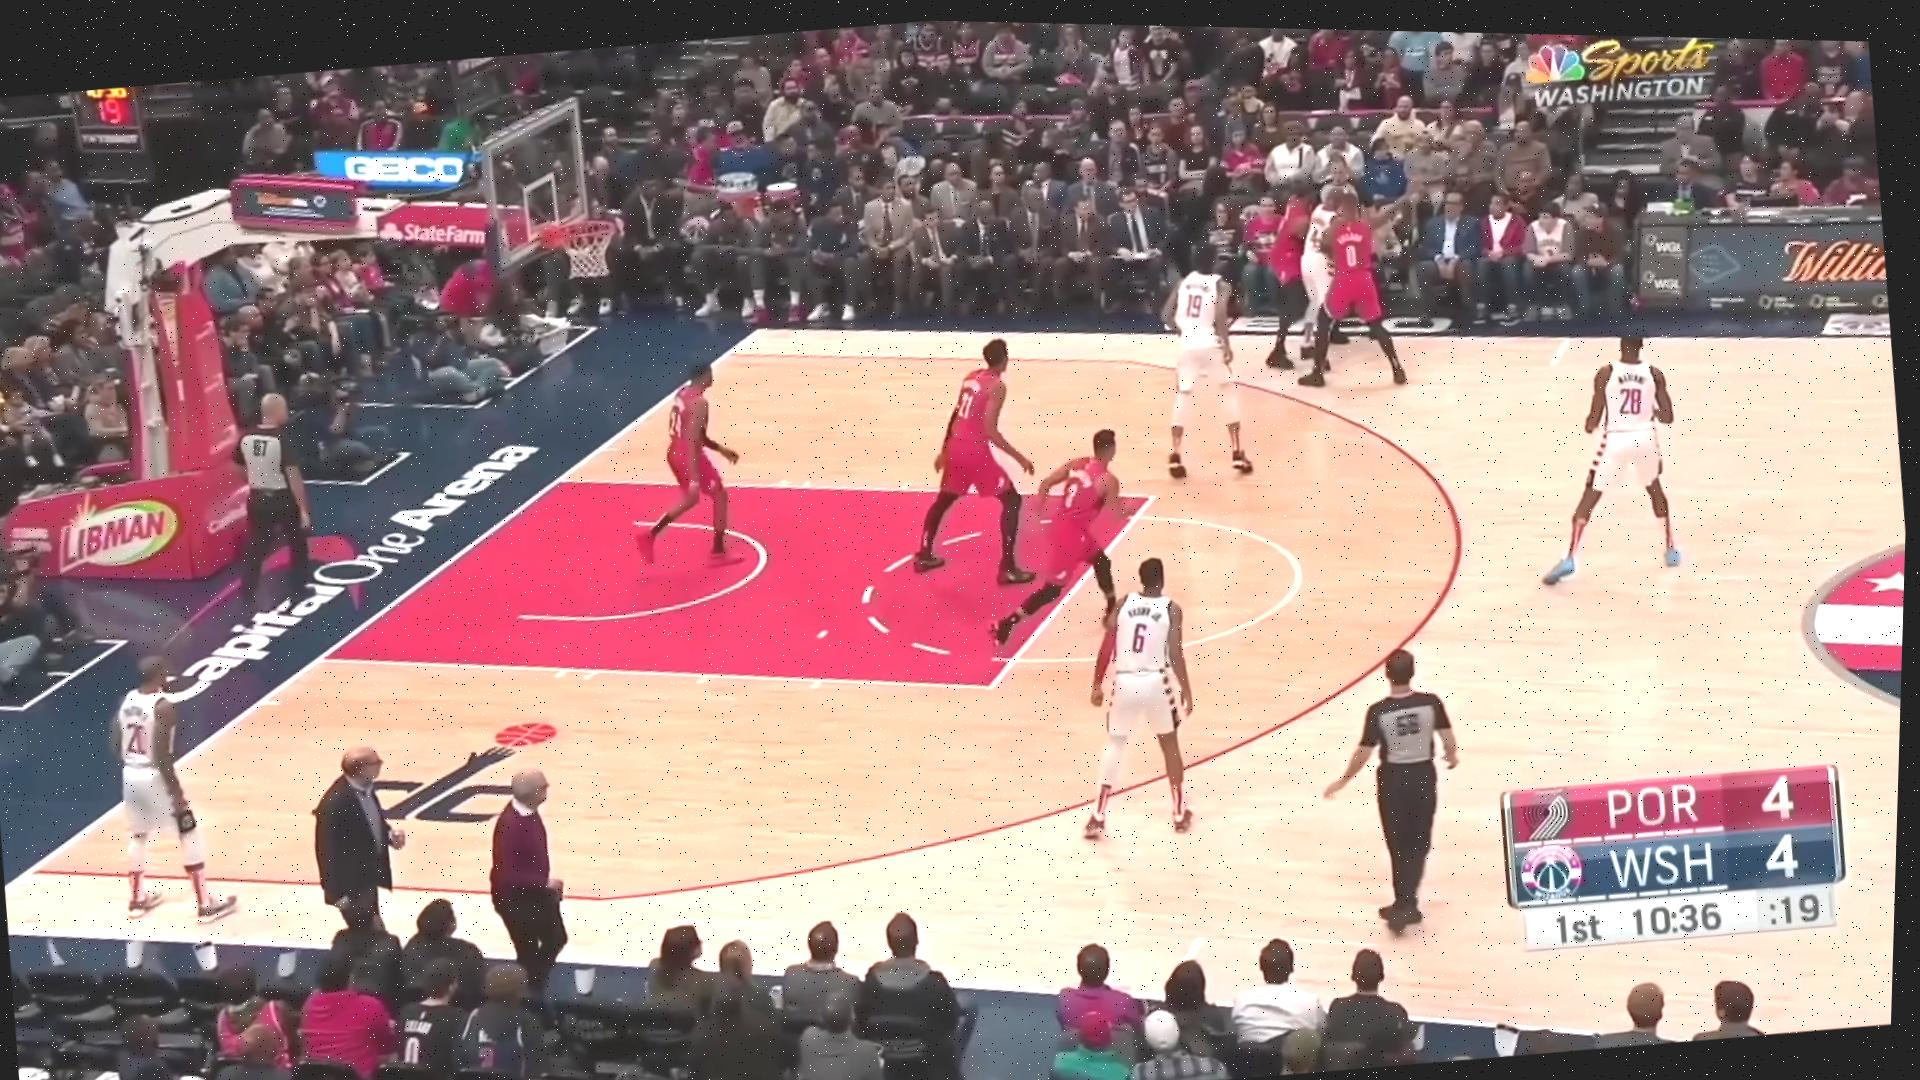foul: (1235, 171, 1421, 408)
